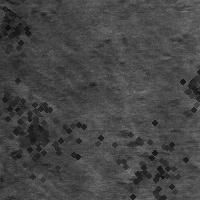rolled-in_scale: (0, 95, 102, 200), (97, 111, 200, 200), (1, 94, 66, 178), (0, 75, 58, 157), (109, 117, 161, 196), (10, 107, 60, 157), (1, 1, 57, 37), (0, 0, 38, 53), (174, 58, 200, 110)
